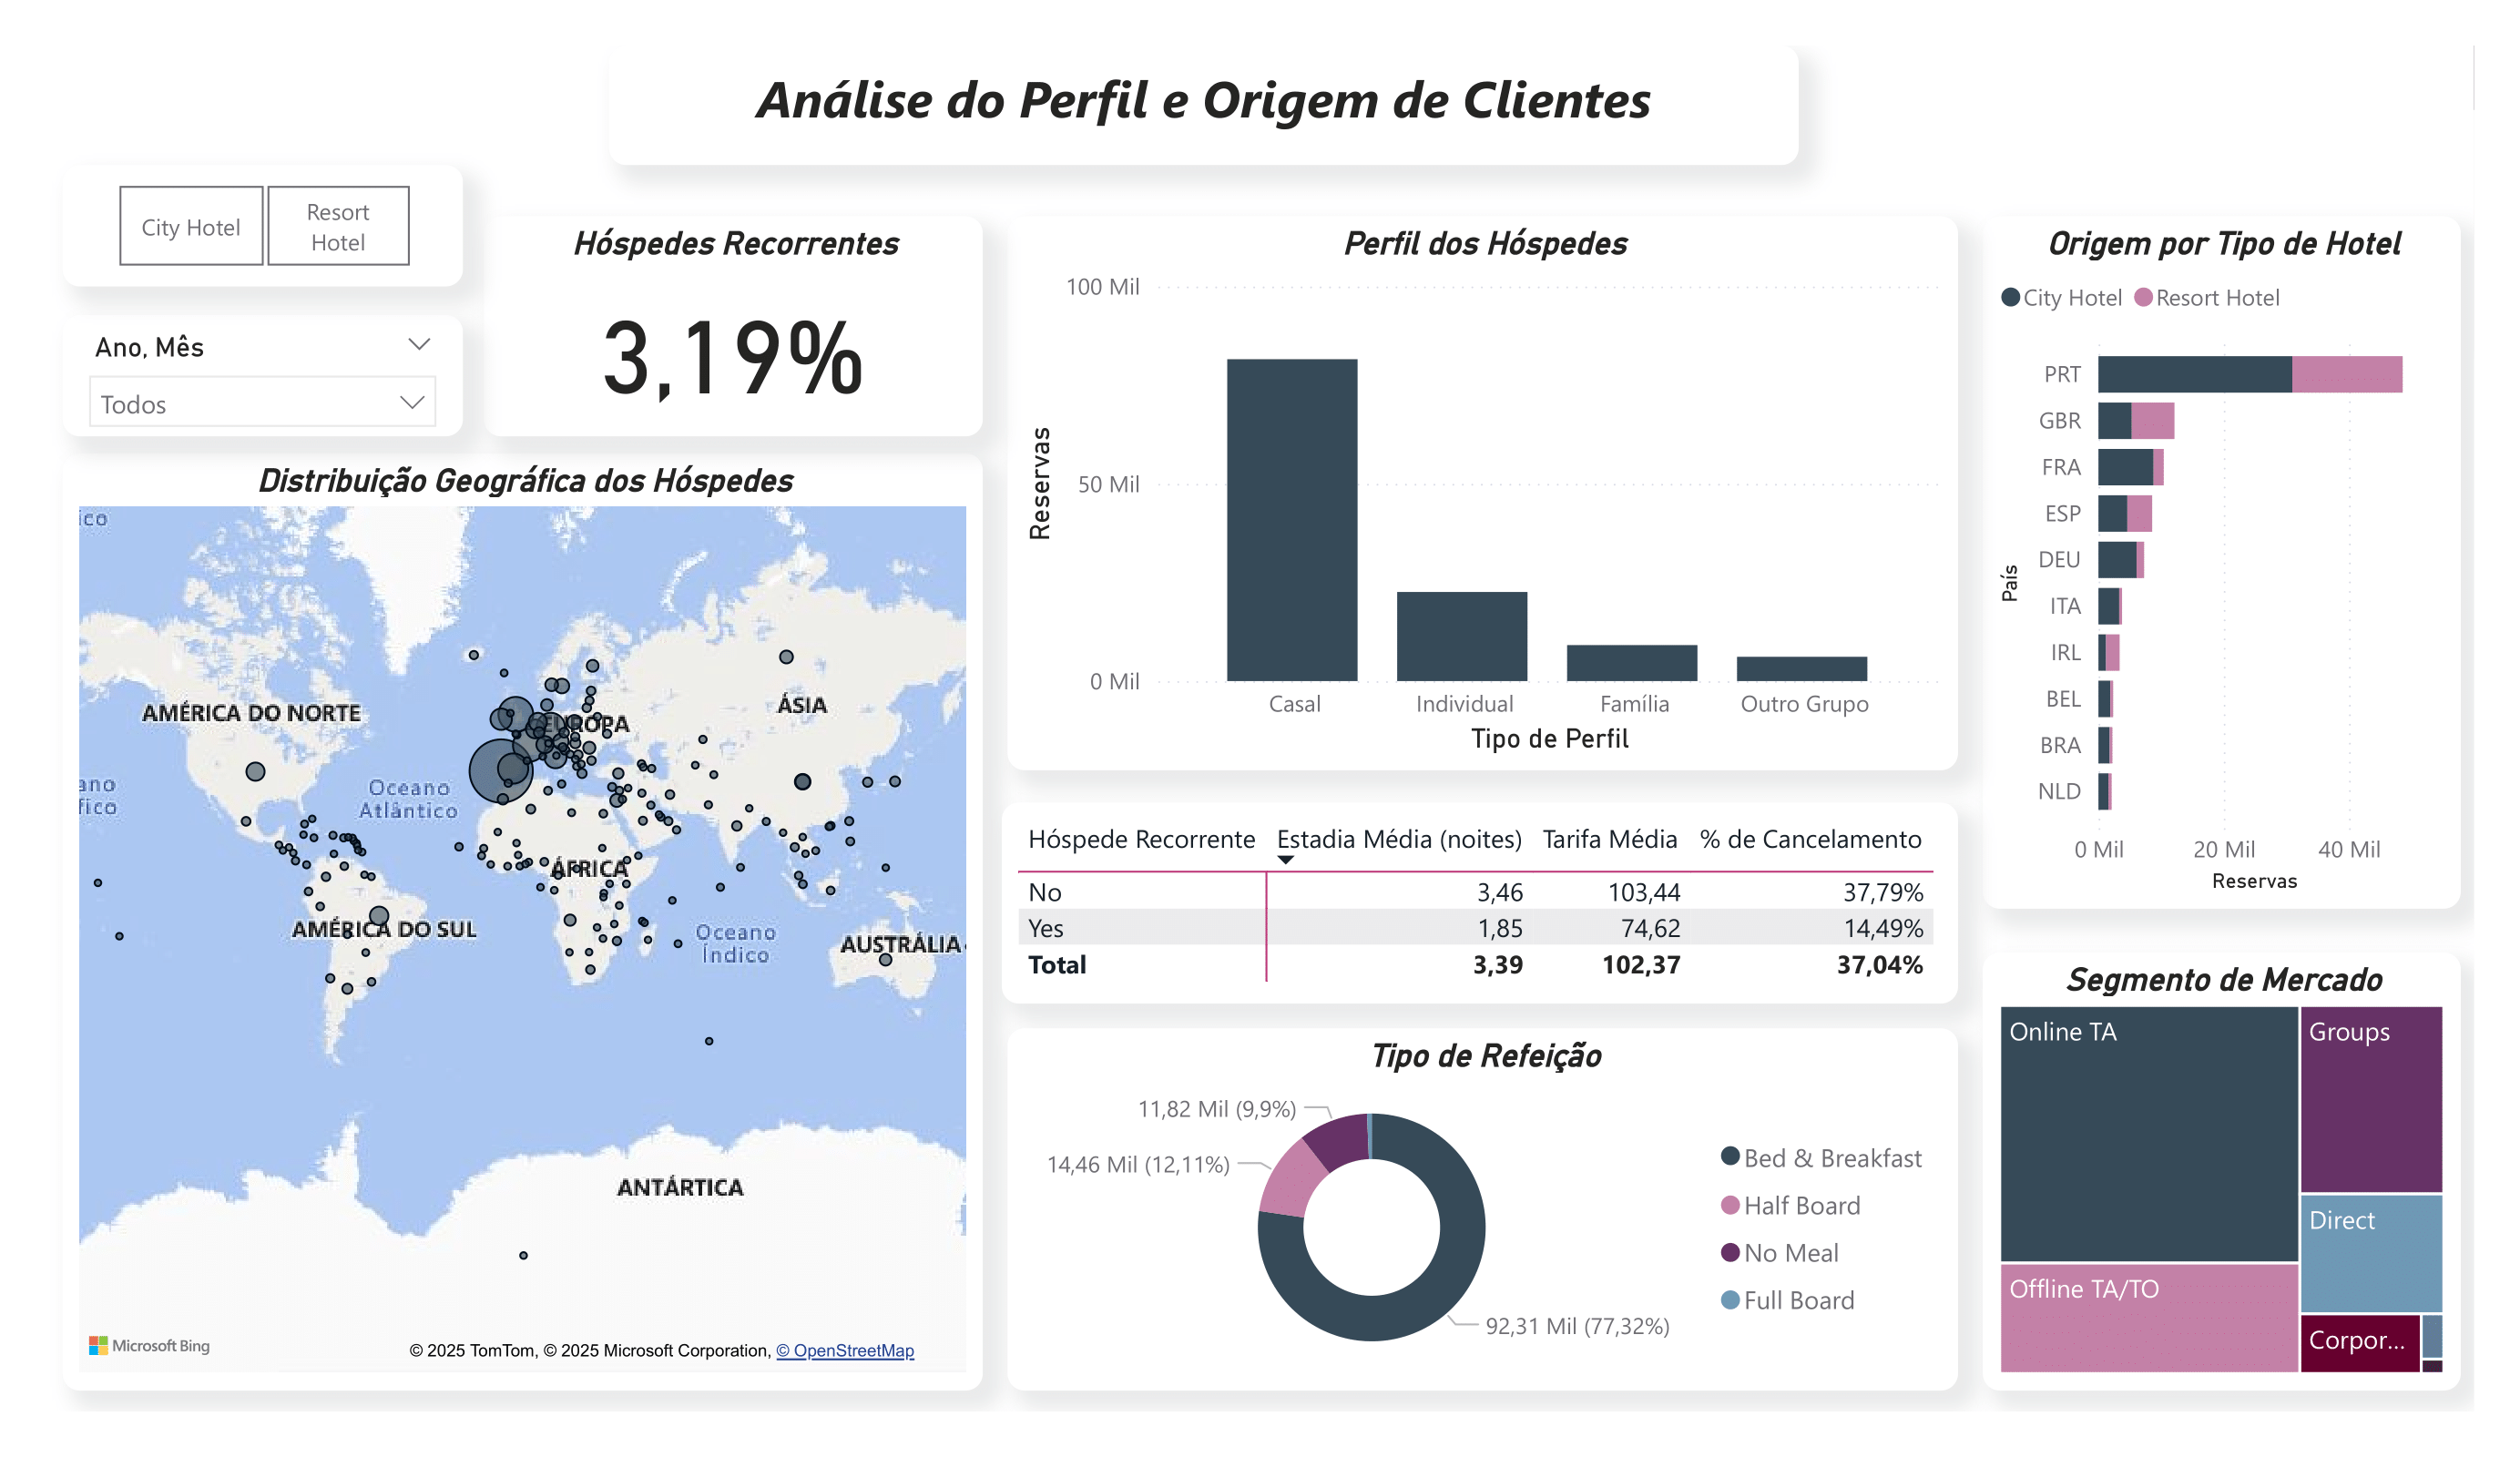

Layout of this report page (visuals, bound fields, positions):
{"tool":"powerbi","page":{"name":"Análise de Clientes","canvas":[1280,720],"ordinal":1},"visuals":[{"type":"map","title":"Distribuição Geográfica dos Hóspedes","fields":{"Category":["hotel_booking_tratado.country"],"Size":["CountNonNull(hotel_booking_tratado.hotel)"]},"box":[0,206.7,525.6,513.3],"z":0},{"type":"barChart","title":"Origem por Tipo de Hotel","fields":{"Category":["hotel_booking_tratado.country"],"Y":["CountNonNull(hotel_booking_tratado.hotel)"],"Series":["hotel_booking_tratado.hotel"]},"box":[1028,90,252,365],"z":1000},{"type":"columnChart","title":"Perfil dos Hóspedes","fields":{"Category":["hotel_booking_tratado.Perfil Grupo"],"Y":["CountNonNull(hotel_booking_tratado.hotel)"]},"box":[526,90,474,284],"z":2000},{"type":"slicer","fields":{"Values":["hotel_booking_tratado.arrival_date.Variation.Hierarquia de datas.Ano","hotel_booking_tratado.arrival_date.Variation.Hierarquia de datas.Mês"]},"box":[0,141.5,220,65.4],"z":3000},{"type":"slicer","fields":{"Values":["hotel_booking_tratado.hotel"]},"box":[0,90,220,50],"z":4000},{"type":"card","title":"Hóspedes Recorrentes","fields":{"Values":["hotel_booking_tratado.Taxa_Hospedes_recorrentes"]},"box":[220,90,305.6,116.7],"z":5000},{"type":"pivotTable","fields":{"Values":["hotel_booking_tratado.Duração_Média_Estadia","hotel_booking_tratado.ADR_médio","hotel_booking_tratado.Taxa_de_Cancelamento"],"Rows":["hotel_booking_tratado.is_repeated_guest"]},"box":[525.6,404.4,493.3,101.1],"z":6000},{"type":"donutChart","title":"Tipo de Refeição ","fields":{"Category":["hotel_booking_tratado.meal"],"Y":["CountNonNull(hotel_booking_tratado.hotel)"]},"box":[526,518,484,202],"z":7000},{"type":"textbox","box":[296.7,0,627.8,63.3],"z":8000},{"type":"treemap","title":"Segmento de Mercado","fields":{"Group":["hotel_booking_tratado.market_segment"],"Values":["CountNonNull(hotel_booking_tratado.hotel)"]},"box":[1028,478,252,242],"z":8001}]}

Visuals, with their boxes in screenshot pixels (x1, y1, x2, y2):
"Distribuição Geográfica dos Hóspedes" map: detection(46, 438, 1043, 1411)
"Origem por Tipo de Hotel" barChart: detection(1996, 217, 2474, 909)
"Perfil dos Hóspedes" columnChart: detection(1044, 217, 1944, 755)
slicer - hotel_booking_tratado.arrival_date.Variation.Hierarquia de datas.Ano x hotel_booking_tratado.arrival_date.Variation.Hierarquia de datas.Mês: detection(46, 314, 463, 438)
slicer - hotel_booking_tratado.hotel: detection(46, 217, 463, 311)
"Hóspedes Recorrentes" card: detection(463, 217, 1043, 438)
pivotTable - hotel_booking_tratado.Duração_Média_Estadia x hotel_booking_tratado.ADR_médio: detection(1043, 812, 1979, 1004)
"Tipo de Refeição " donutChart: detection(1044, 1028, 1962, 1411)
textbox: detection(608, 46, 1800, 166)
"Segmento de Mercado" treemap: detection(1996, 953, 2474, 1411)
